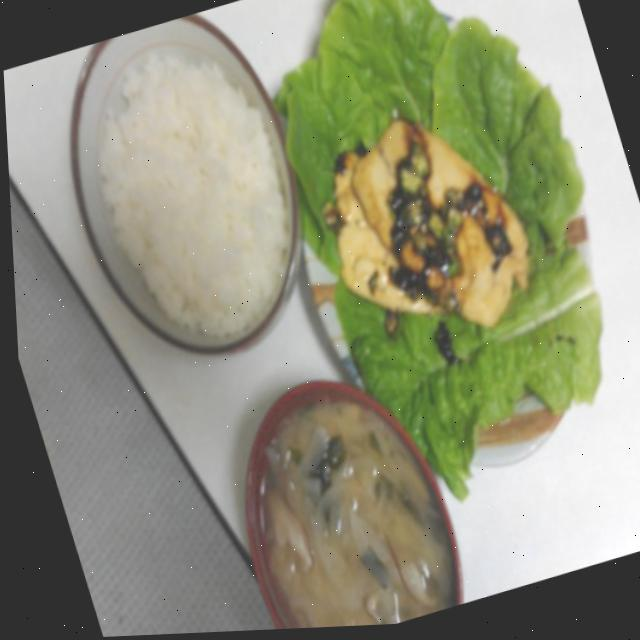米饭主食: (29, 0, 342, 378)
